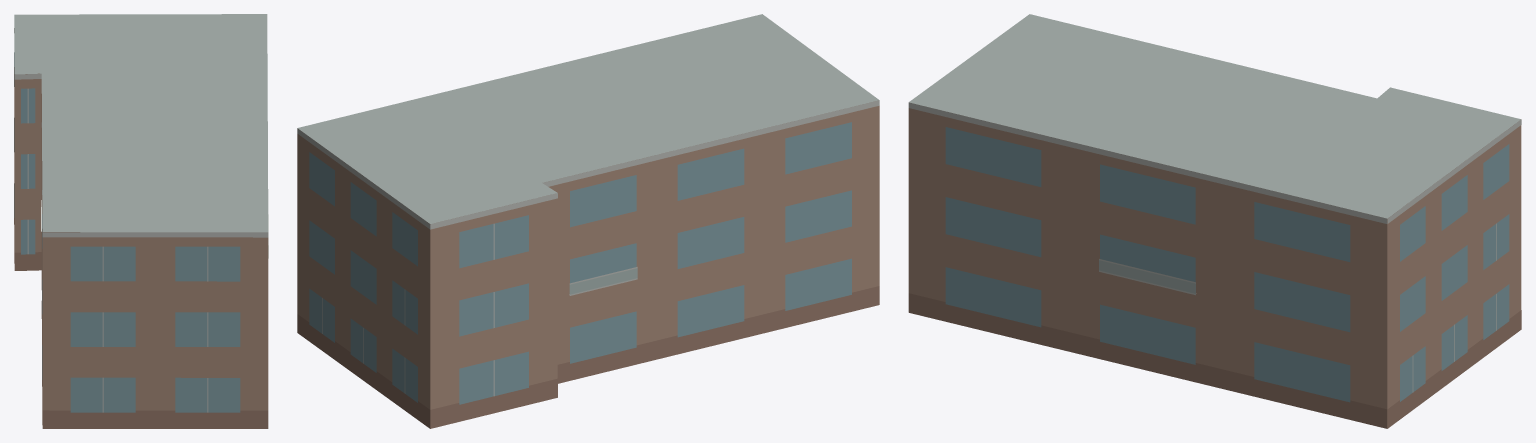
File: survey-upis-32990772.glb
The picture shows the model from 3 angles, left to right: view 1: azimuth 30°, elevation 25°; view 2: azimuth 150°, elevation 25°; view 3: azimuth 270°, elevation 25°; orthographic projection. The views are drawn at different scales.
Visible parts, largest first — view 1: survey-upis-32990772.tmp; view 2: survey-upis-32990772.tmp; view 3: survey-upis-32990772.tmp.
Part boxes in pixels (bbox=[...]): survey-upis-32990772.tmp: bbox=[14, 14, 268, 428]; survey-upis-32990772.tmp: bbox=[297, 14, 879, 428]; survey-upis-32990772.tmp: bbox=[908, 14, 1521, 428].
Size of the model in its own units: 19.1 by 9.15 by 24.18.
